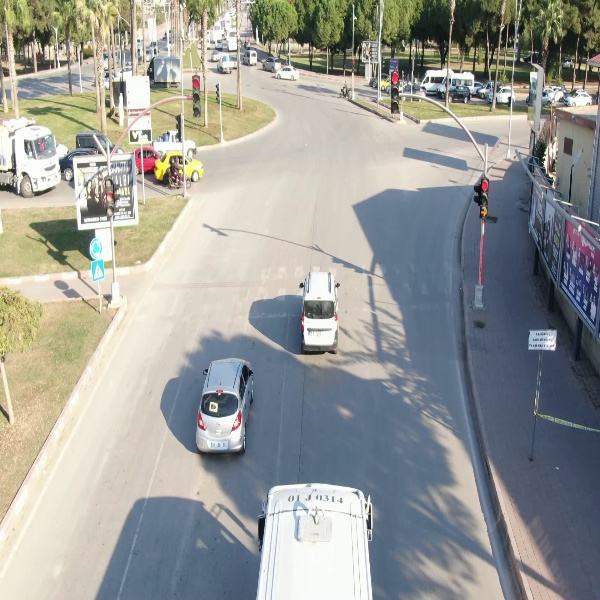car: (191, 354, 258, 458), (298, 269, 341, 353), (564, 88, 595, 108), (487, 84, 517, 104), (446, 84, 474, 104), (273, 64, 300, 81), (262, 55, 284, 73), (240, 49, 259, 67)
